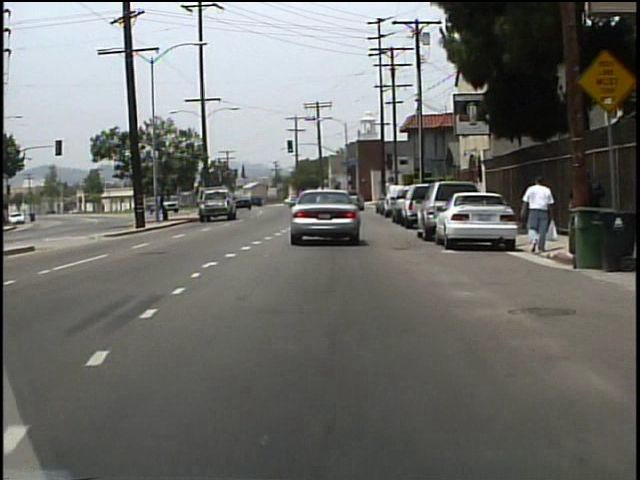person: (519, 176, 554, 258)
